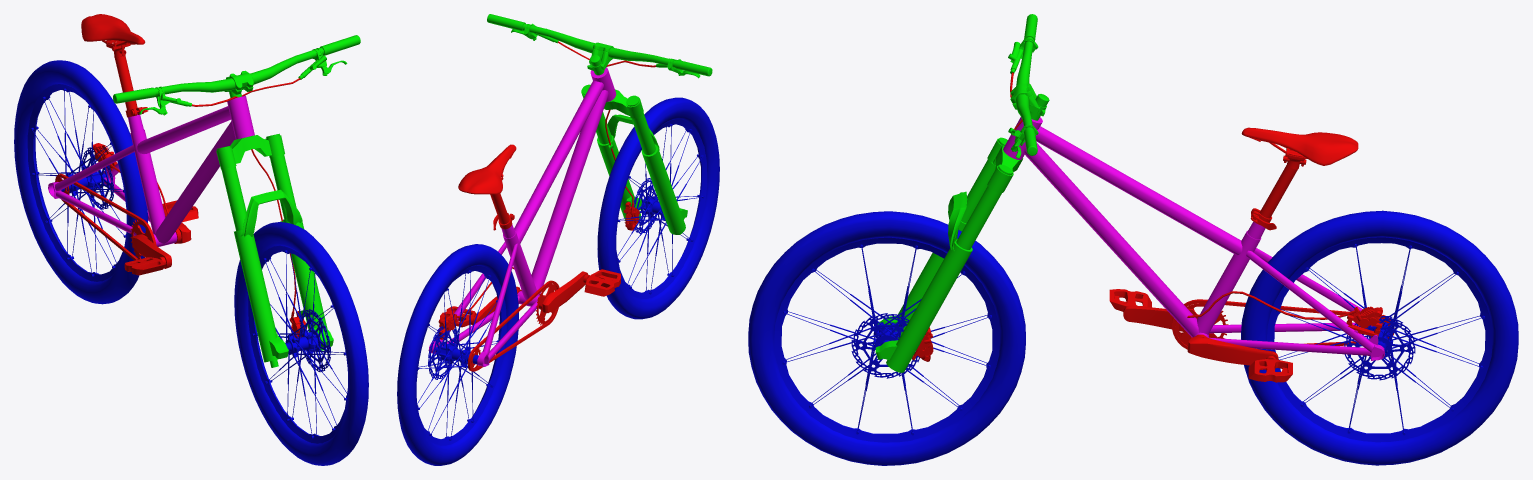
Rendered from bike_hardtail.fbx.
3 views of the same model, side by side, from view 1: azimuth 30°, elevation 25°; view 2: azimuth 150°, elevation 25°; view 3: azimuth 270°, elevation 25° (orthographic). The views are drawn at different scales.
Parts seen in each view (by area): view 1: bike_downhill_LOD0; view 2: bike_downhill_LOD0; view 3: bike_downhill_LOD0.
Part boxes in pixels (<box>): bike_downhill_LOD0: <box>14,14,368,465</box>; bike_downhill_LOD0: <box>397,14,719,465</box>; bike_downhill_LOD0: <box>748,14,1518,465</box>.
Size of the model in its own units: 78.37 by 106 by 192.
